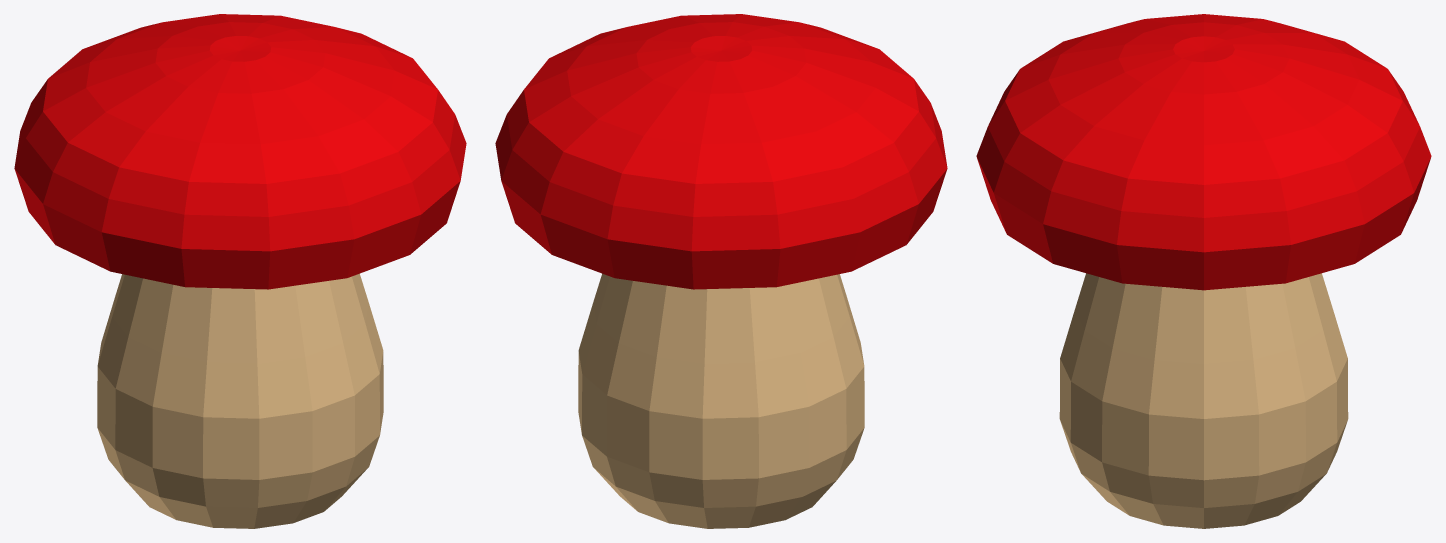
The model's file is Mushroom.fbx.
The picture shows the model from 3 angles, left to right: view 1: azimuth 30°, elevation 25°; view 2: azimuth 150°, elevation 25°; view 3: azimuth 270°, elevation 25°; orthographic projection.
Visible parts, largest first — view 1: MushroomHead, MushroomBase; view 2: MushroomHead, MushroomBase; view 3: MushroomHead, MushroomBase.
Part boxes in pixels (x1,y1,x2,y2): MushroomHead: (14, 14, 466, 289); MushroomBase: (97, 273, 383, 528); MushroomHead: (495, 14, 947, 289); MushroomBase: (578, 273, 864, 528); MushroomHead: (976, 14, 1431, 290); MushroomBase: (1059, 273, 1348, 528).
Bounding box in the file's own units: 330 × 349 × 330.
